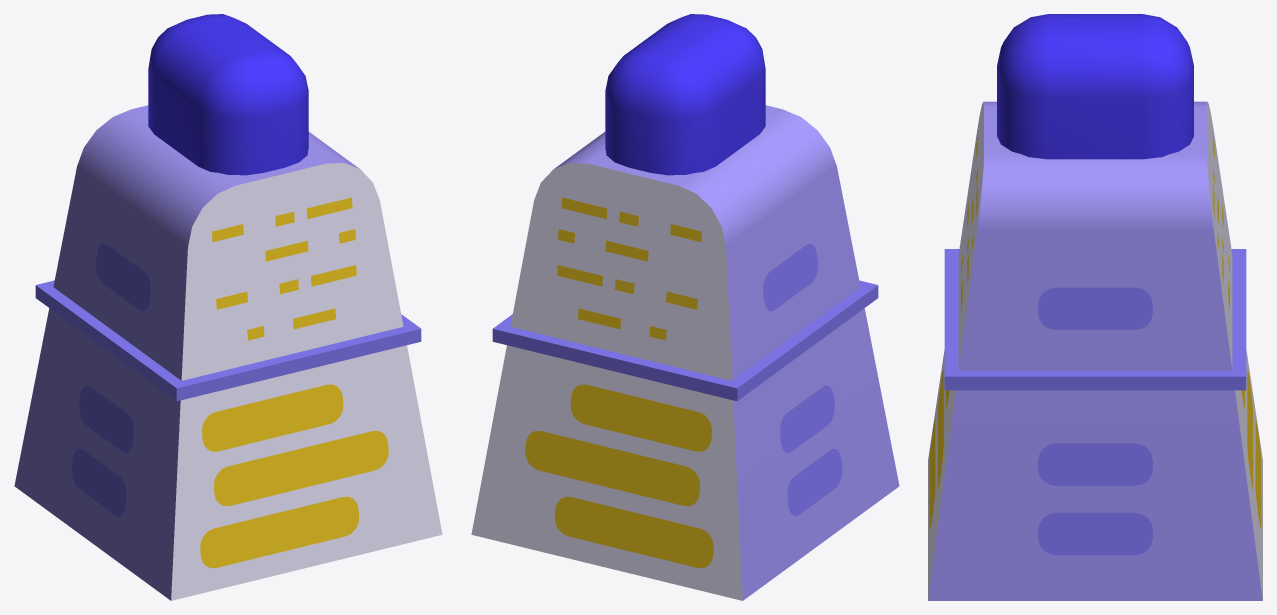
Rendered from Building_030.fbx.
The picture shows the model from 3 angles, left to right: view 1: azimuth 30°, elevation 25°; view 2: azimuth 150°, elevation 25°; view 3: azimuth 270°, elevation 25°; orthographic projection. The views are drawn at different scales.
Parts seen in each view (by area): view 1: Building_030; view 2: Building_030; view 3: Building_030.
Part boxes in pixels (<box>): Building_030: <box>14,14,442,600</box>; Building_030: <box>471,14,899,600</box>; Building_030: <box>928,14,1262,600</box>.
Bounding box in the file's own units: 20.75 × 34.61 × 20.75.
